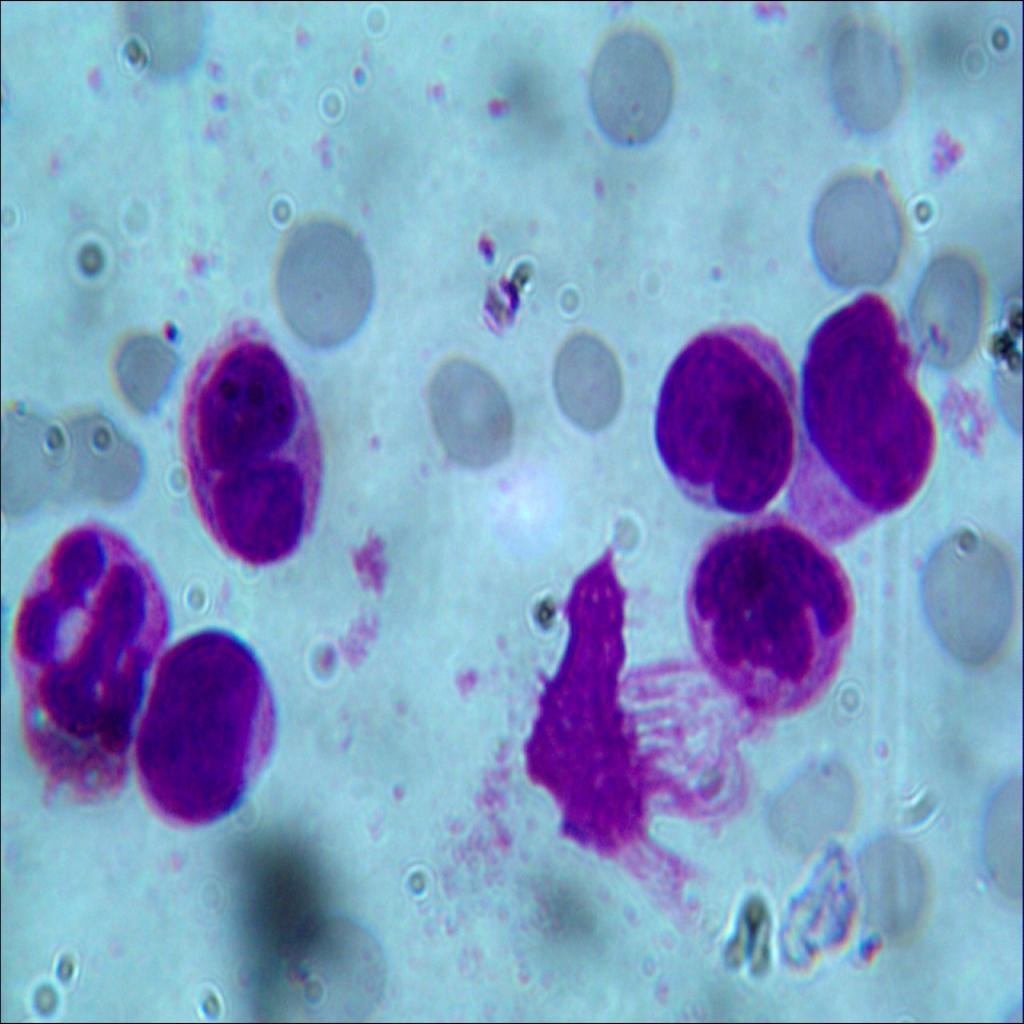Eritrosit: (266, 212, 378, 351), (923, 526, 1018, 671), (804, 162, 906, 289), (586, 19, 674, 152), (824, 17, 910, 141), (426, 354, 514, 473), (766, 752, 858, 859), (0, 398, 75, 520), (58, 411, 148, 512), (914, 251, 988, 369), (856, 834, 933, 944), (550, 328, 622, 434), (109, 328, 179, 422)
Limfoblast: (174, 319, 328, 574), (798, 291, 938, 541), (135, 627, 283, 832), (655, 318, 801, 517)
Neutrofil: (6, 518, 170, 811), (681, 511, 856, 722)
Platelet: (481, 84, 516, 136), (469, 222, 503, 269), (381, 680, 411, 728), (179, 245, 211, 285), (343, 58, 374, 97), (306, 129, 336, 169), (703, 252, 733, 291), (424, 71, 454, 109), (196, 112, 226, 147), (384, 779, 411, 814), (284, 17, 313, 48), (361, 424, 386, 458), (200, 46, 226, 76), (83, 59, 103, 98), (586, 172, 610, 204), (208, 85, 233, 114), (43, 145, 63, 179), (160, 310, 178, 344)
